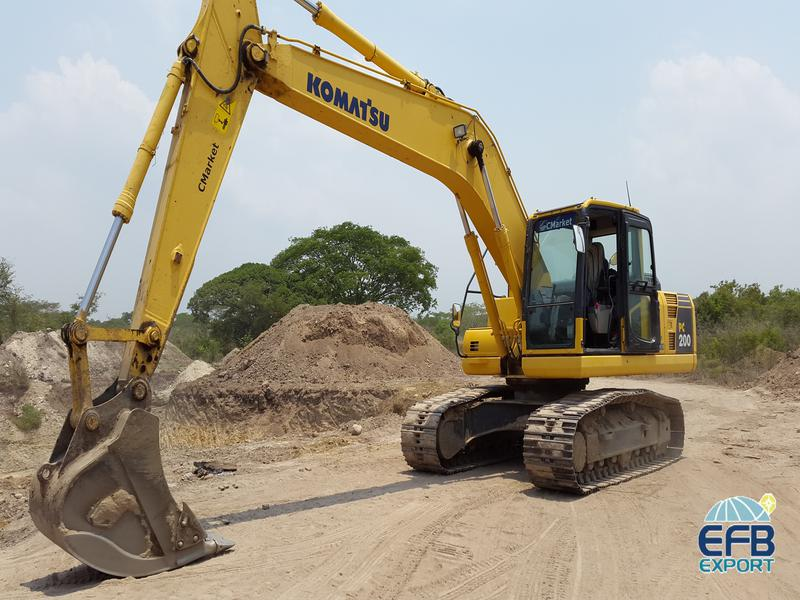shovel: (25, 5, 702, 583)
